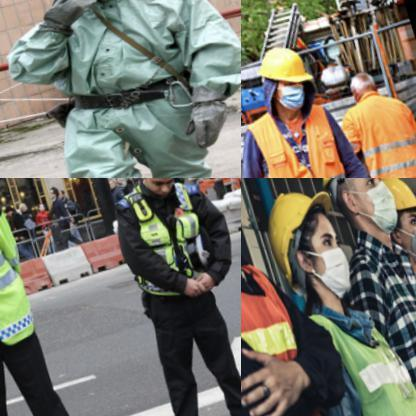vest: (19, 0, 240, 177), (241, 223, 343, 415), (298, 282, 415, 415), (118, 178, 222, 309), (244, 101, 369, 177), (0, 187, 52, 369), (333, 89, 415, 177)
